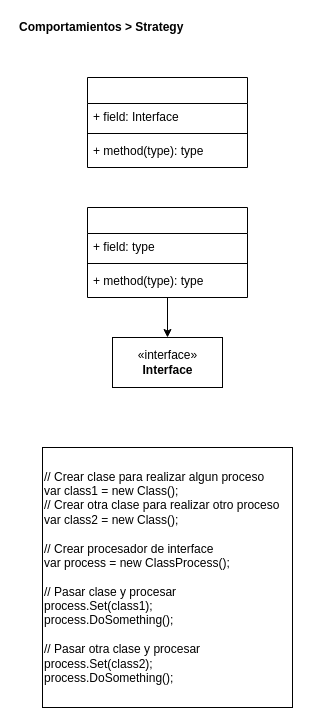
The diagram is 310 pixels wide and 725 high, and some of its shapes have lost their labels. The box of each missing label's shape, as (x1, y1, x2, y2) in pixels:
Class : Interface: (86, 206, 248, 298)
ClassProcess: (86, 76, 248, 168)
